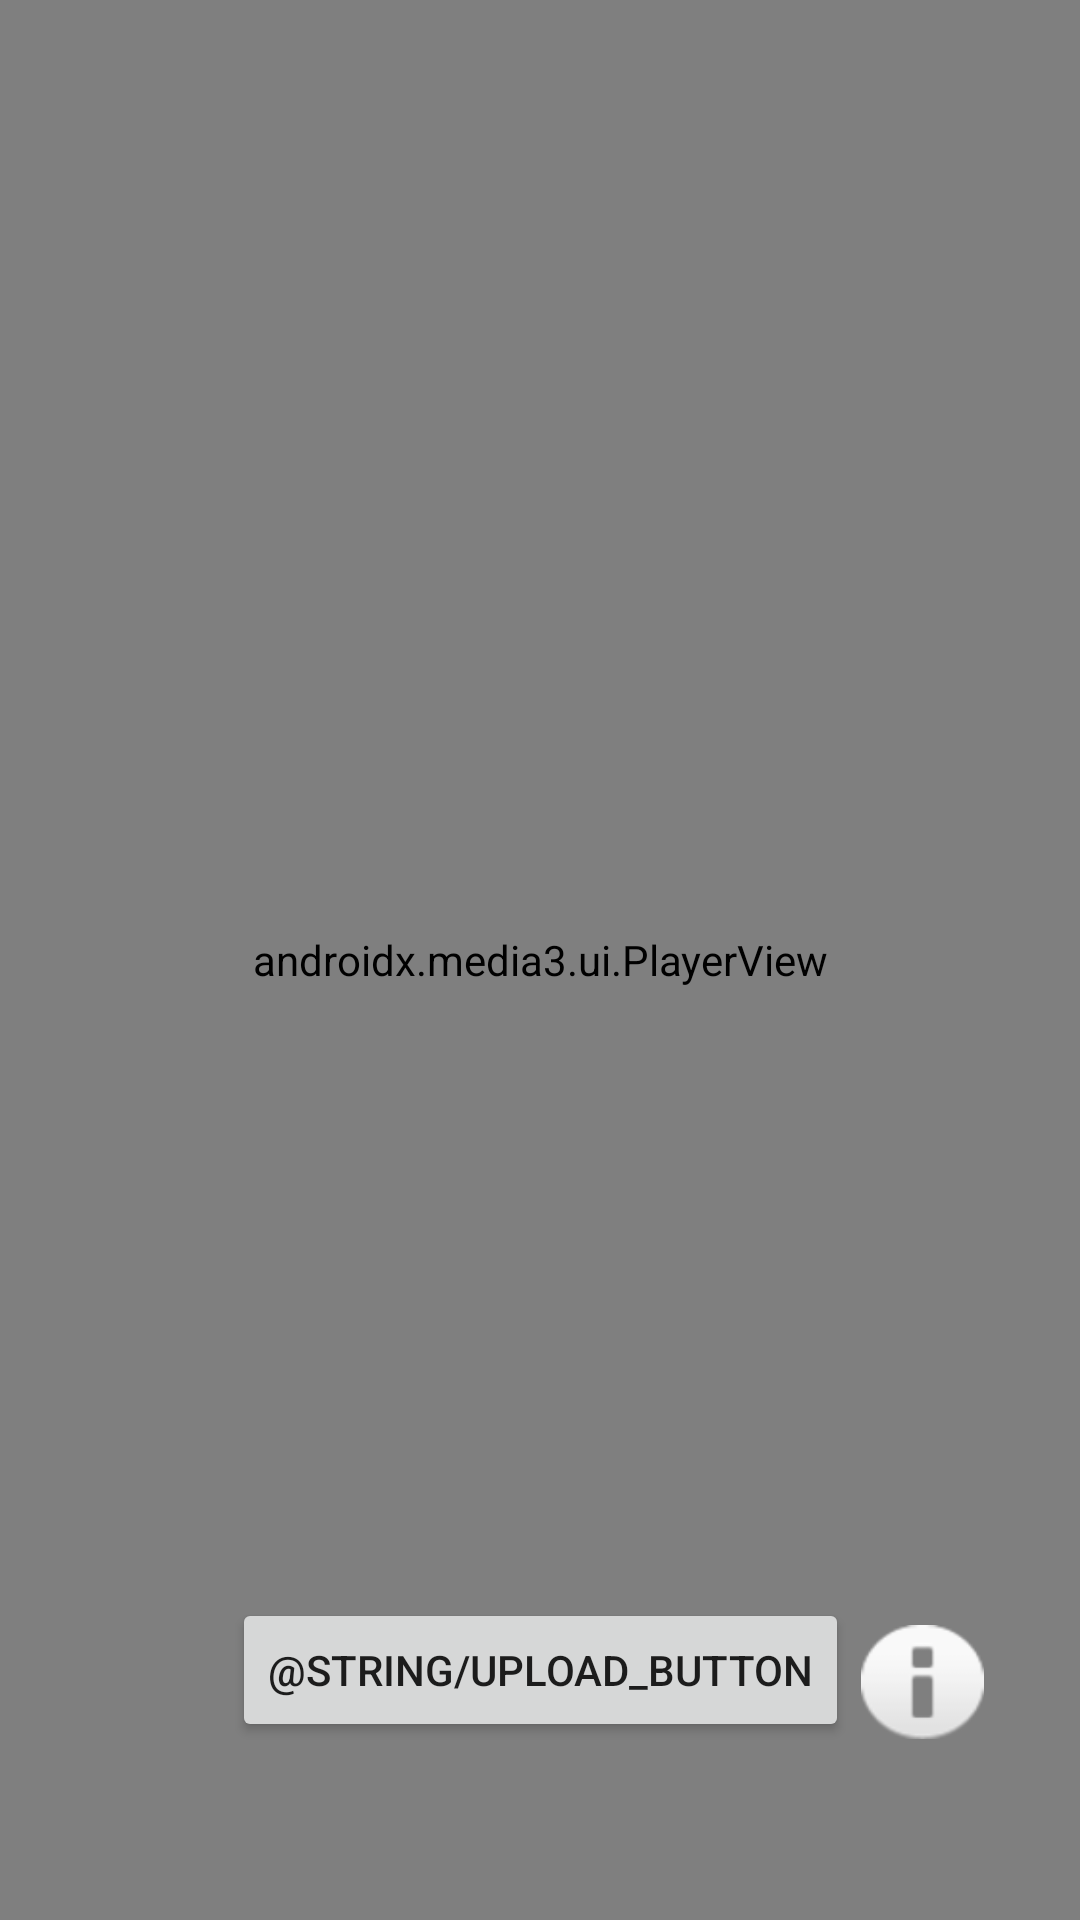

Where icons sit on this 1080w x 1920h app screen, as (x1, y1, x2, y2):
info: (861, 1625, 984, 1739)
